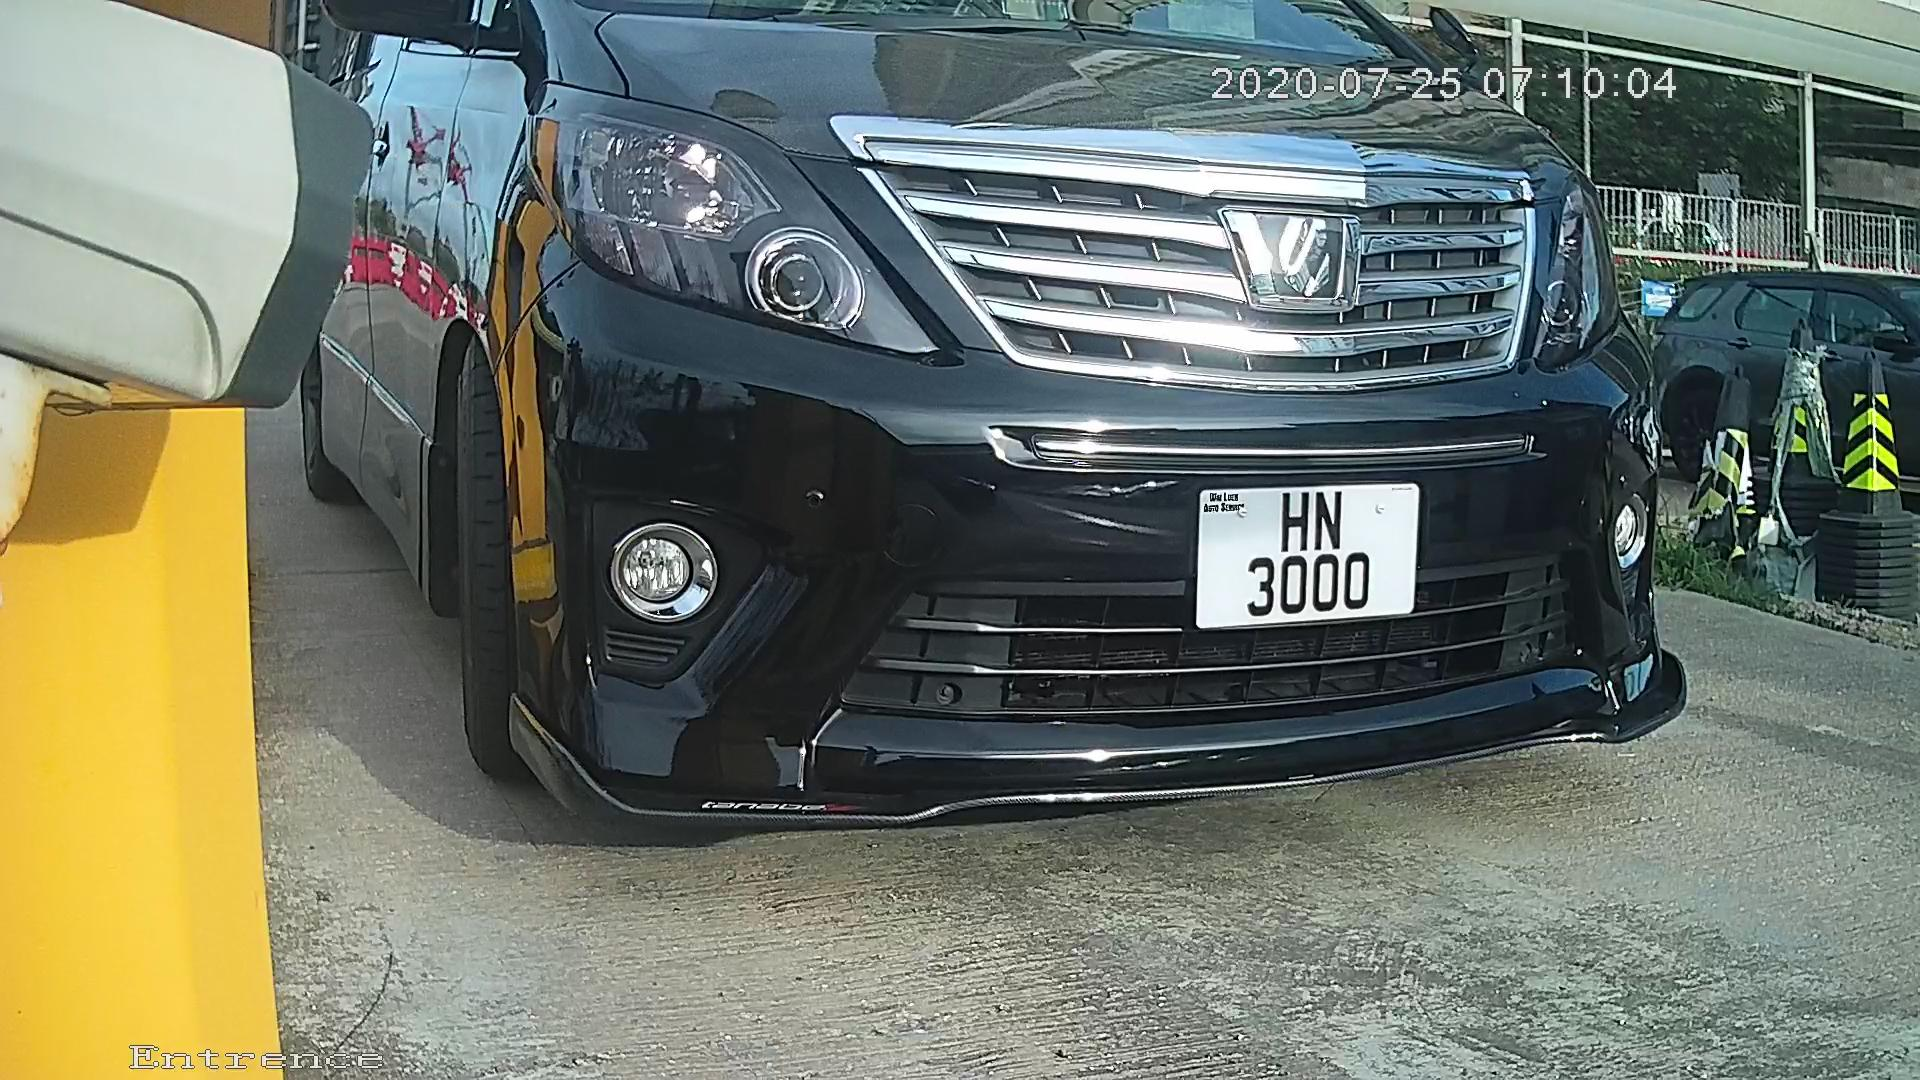License Plate: (1175, 454, 1449, 651)
